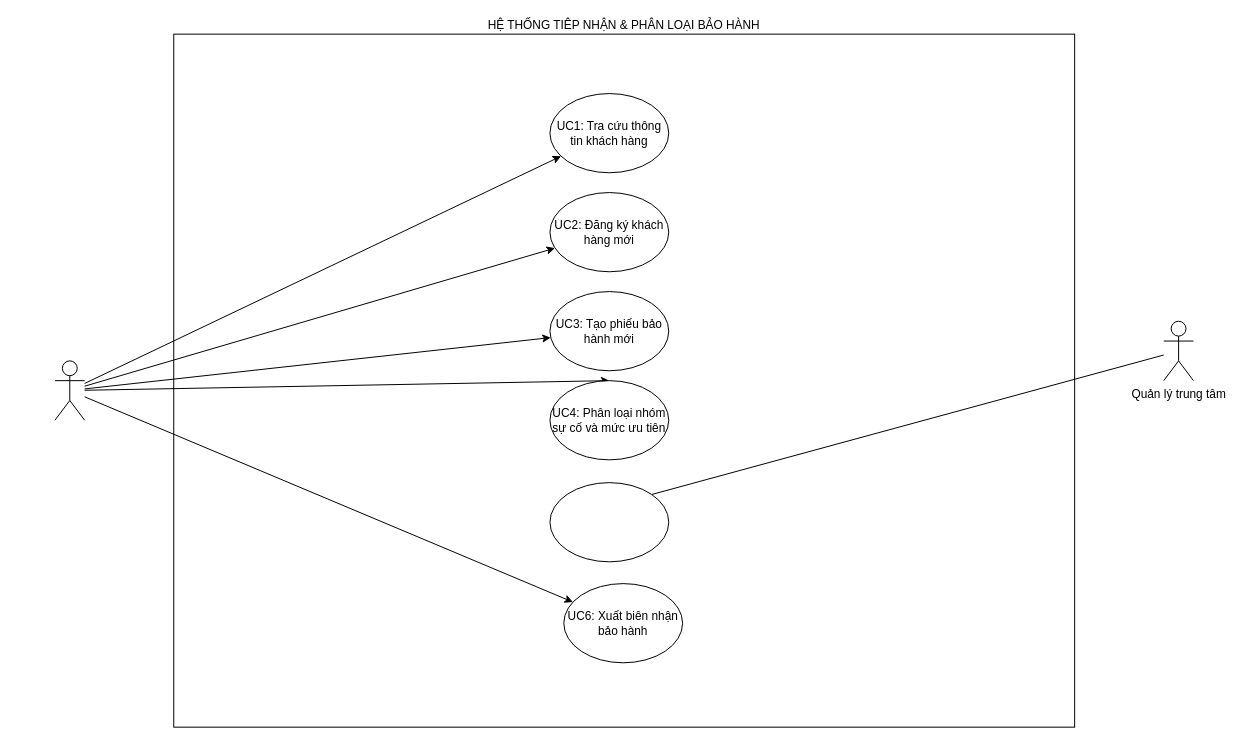
Image size: 1242x744. Some labels were removed from this diagram. Here are the shapes that lost their labels. From the top down, the centre of each, then its label:
At pixel 69 390: "Nhân viên tiếp nhận".
At pixel 609 522: "UC5: Tra cứu danh sách phiếu bảo hành".
